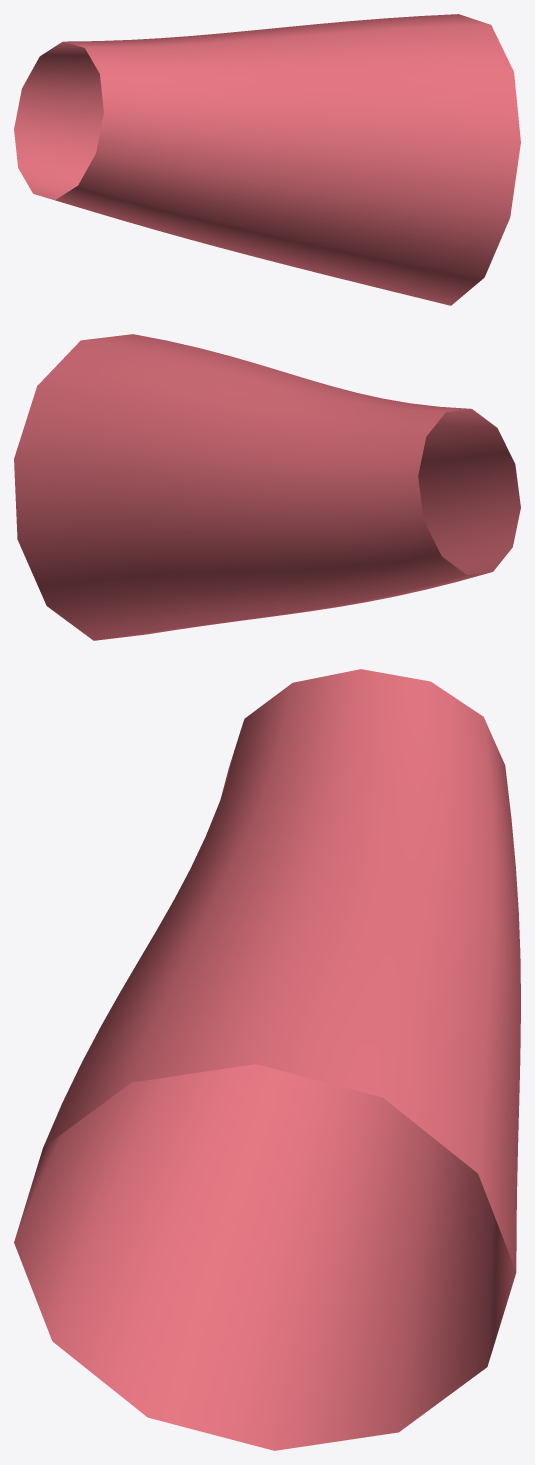
3 views of the same model, one above another, from view 1: azimuth 30°, elevation 25°; view 2: azimuth 150°, elevation 25°; view 3: azimuth 270°, elevation 25° (orthographic). The views are drawn at different scales.
Parts seen in each view (by area): view 1: ZA_ef2f4296a6dd7866; view 2: ZA_ef2f4296a6dd7866; view 3: ZA_ef2f4296a6dd7866.
Boxes of the visible parts, x1,y1,x2,y2 form: ZA_ef2f4296a6dd7866: (14, 14, 520, 305); ZA_ef2f4296a6dd7866: (14, 334, 520, 640); ZA_ef2f4296a6dd7866: (14, 669, 520, 1450).
Size of the model in its own units: 0.0369 by 0.025 by 0.022.
